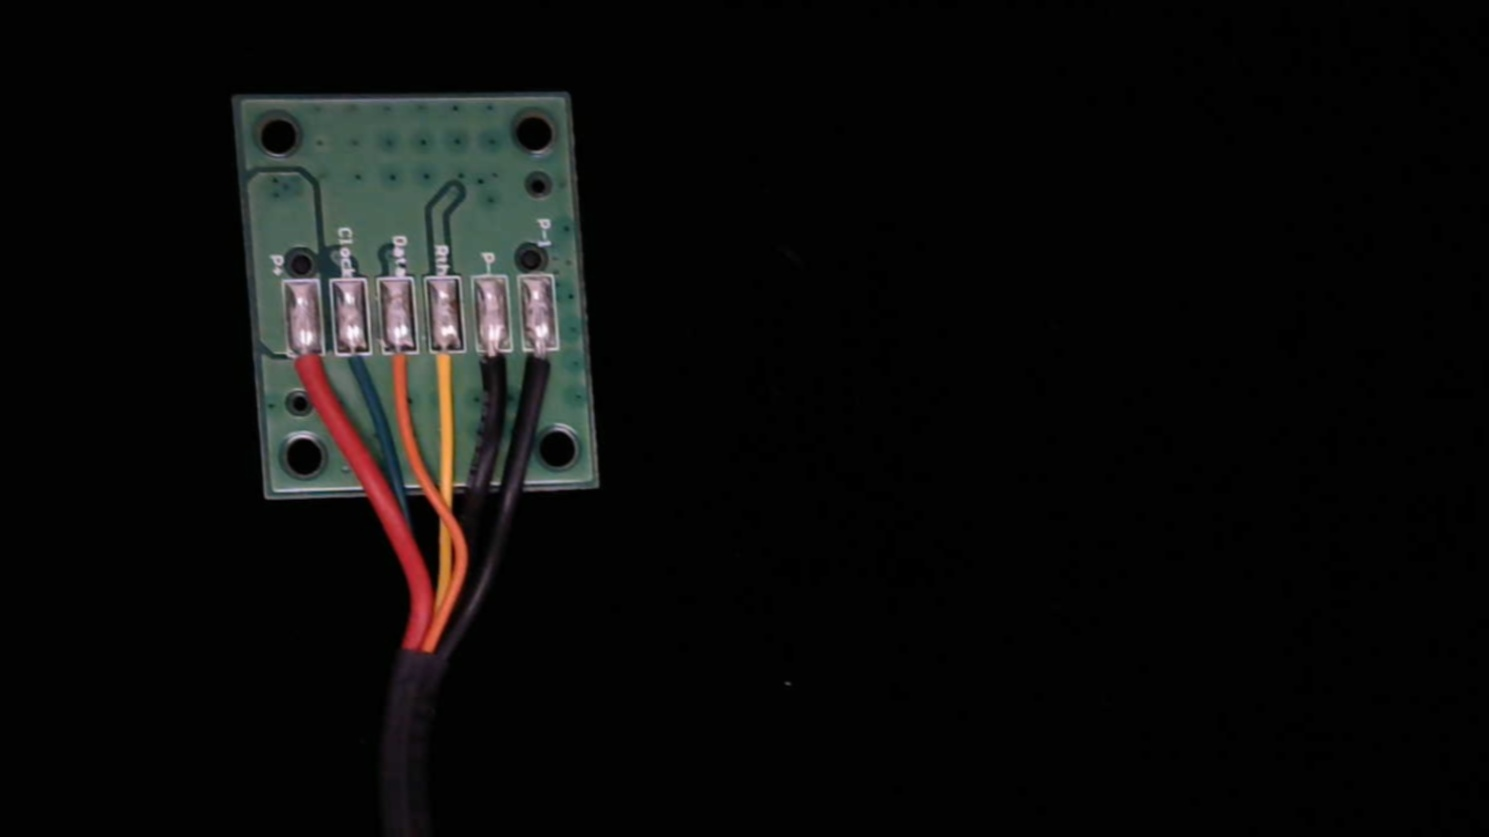Black: (472, 331, 512, 412)
Black1: (522, 328, 563, 409)
Green: (331, 332, 373, 407)
Orange: (381, 331, 419, 401)
Red: (285, 334, 325, 408)
Yellow: (426, 328, 465, 408)
